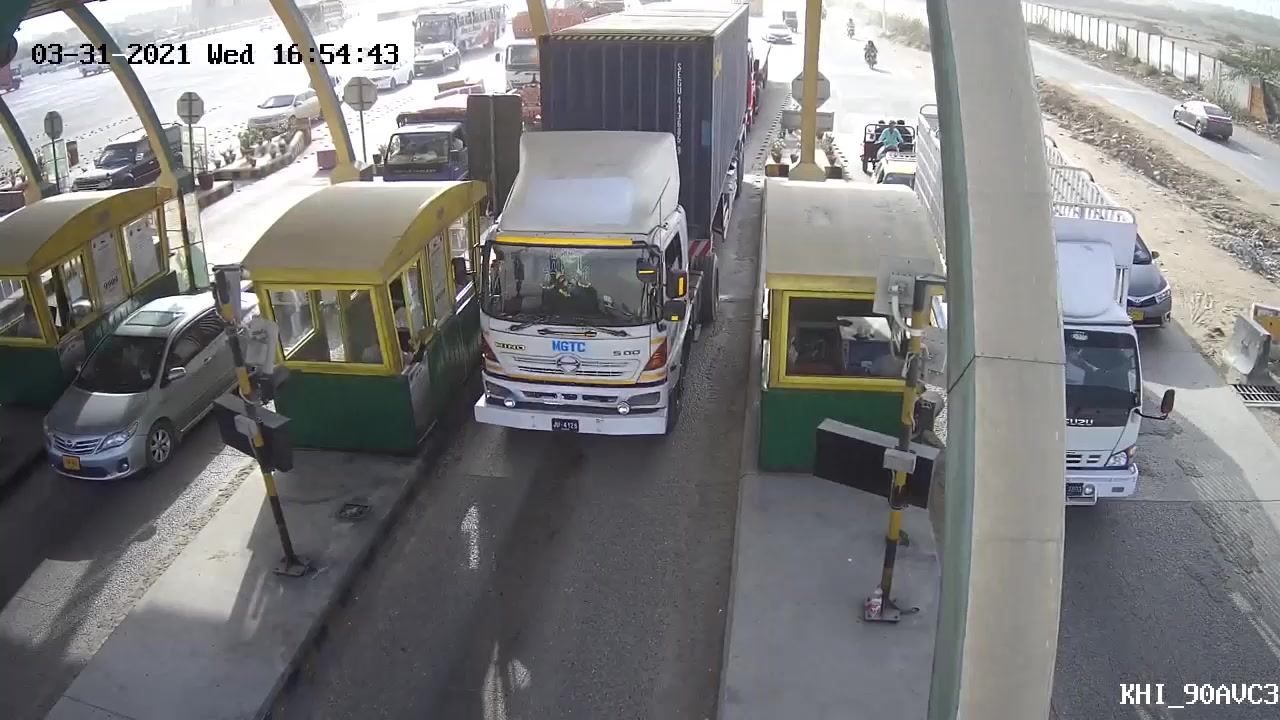F6: (461, 2, 762, 446)
